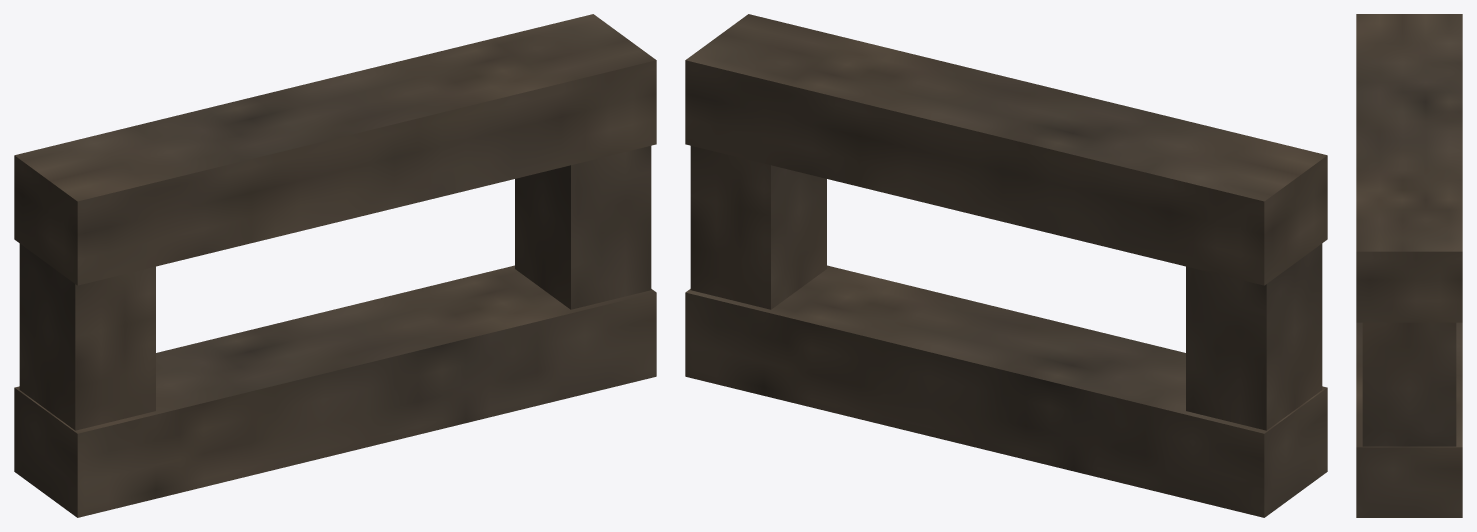
The model's file is SM_Sign_Plaque.fbx.
The picture shows the model from 3 angles, left to right: view 1: azimuth 30°, elevation 25°; view 2: azimuth 150°, elevation 25°; view 3: azimuth 270°, elevation 25°; orthographic projection. The views are drawn at different scales.
Parts seen in each view (by area): view 1: SM_Sign_Plaque; view 2: SM_Sign_Plaque; view 3: SM_Sign_Plaque.
Part boxes in pixels (left/top/right/bottom): SM_Sign_Plaque: left=14, top=14, right=656, bottom=517; SM_Sign_Plaque: left=685, top=14, right=1327, bottom=517; SM_Sign_Plaque: left=1356, top=14, right=1462, bottom=517.
Bounding box in the file's own units: 1.8 × 0.94 × 0.34.
1 material, 1 textured.
